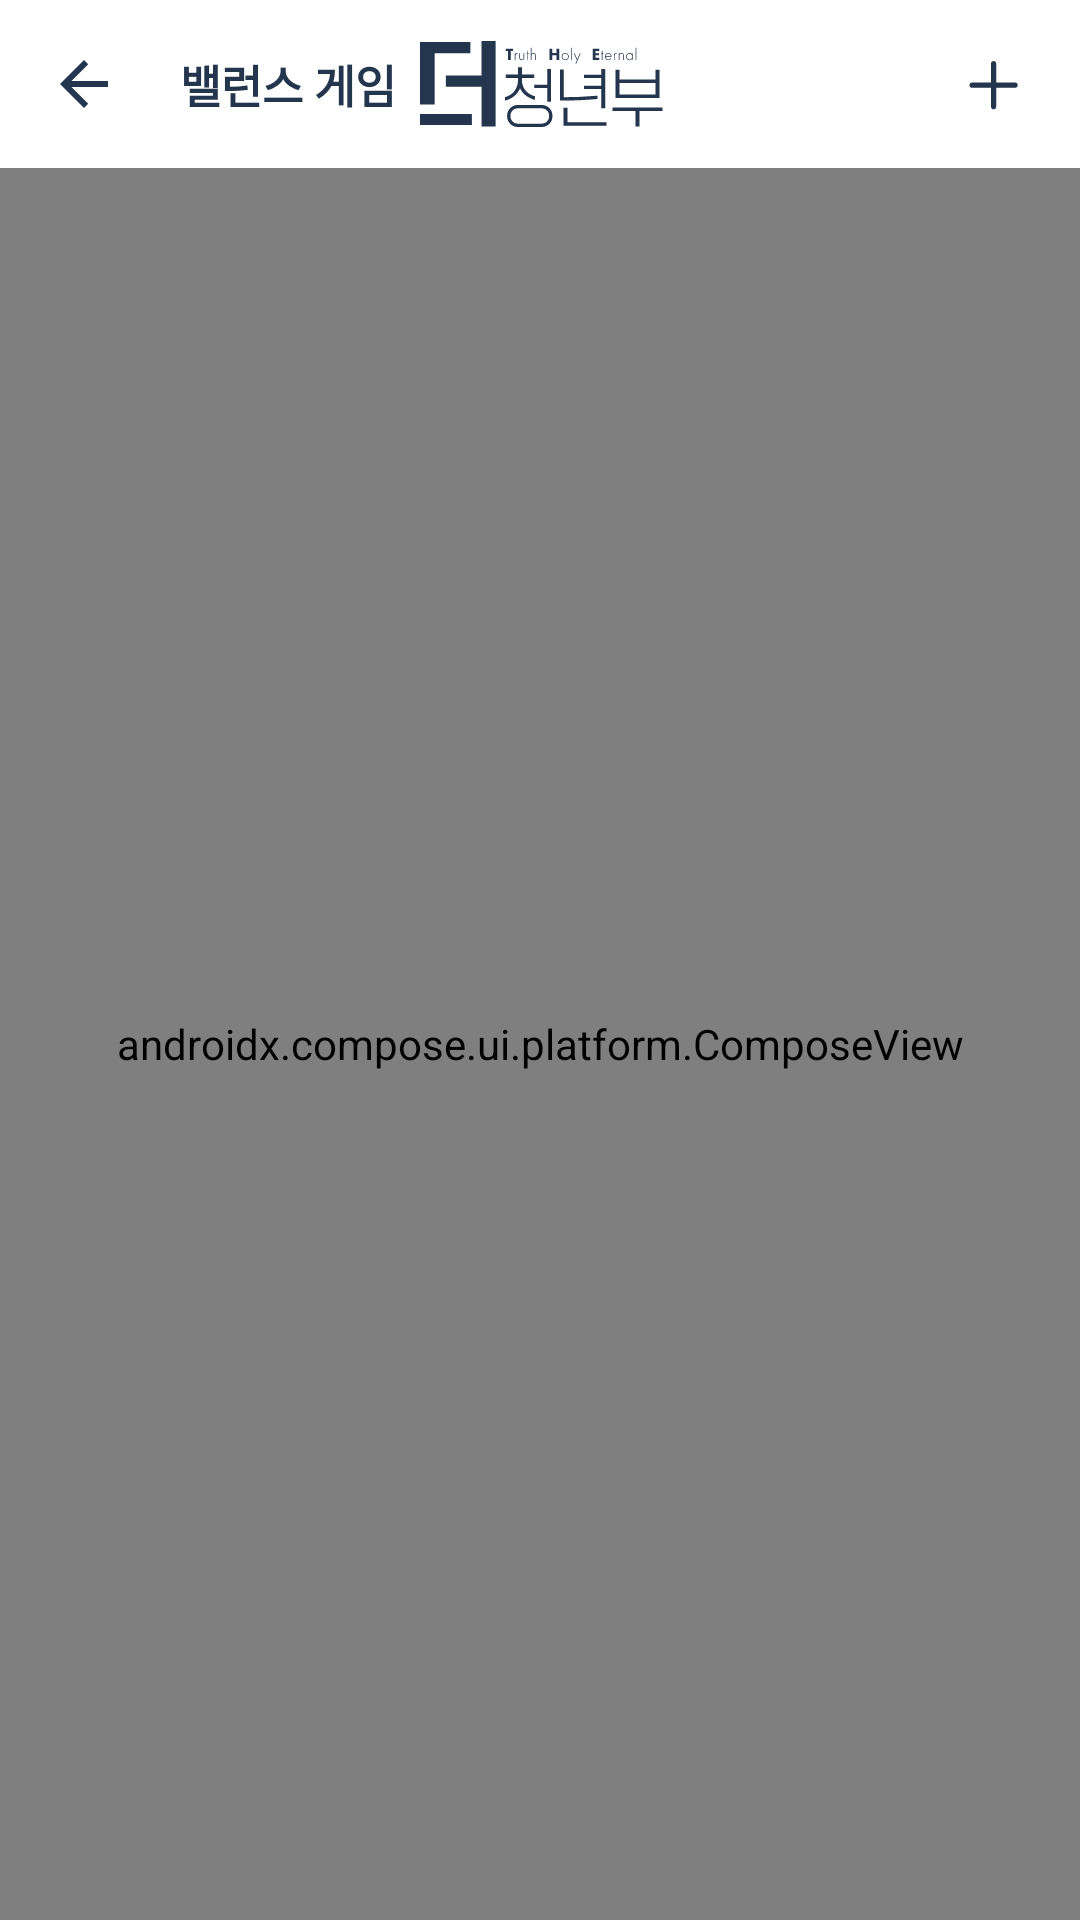

Point at icon controls on the screen. Image size 1080*1920, points as [x,y].
plus: [993,85]
